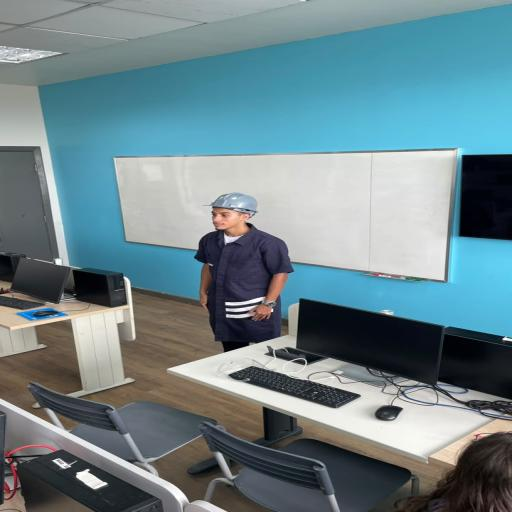CAPACETE: (204, 192, 258, 216)
